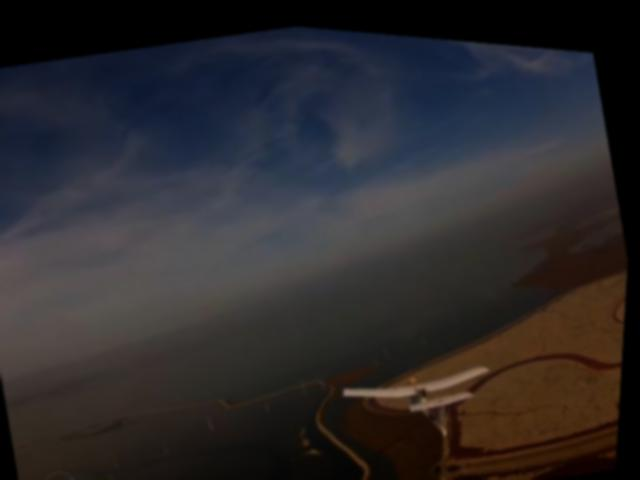uav: (336, 333, 513, 460)
